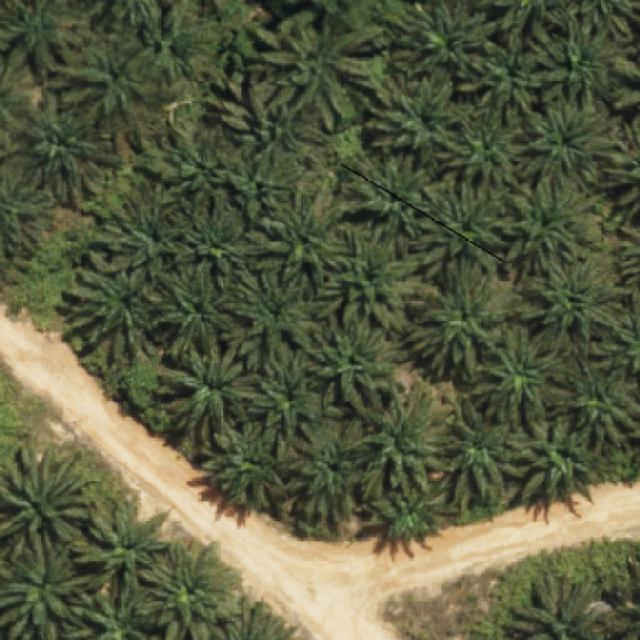Kelapa_Sawit: (250, 10, 388, 136), (310, 220, 442, 335), (398, 256, 513, 387), (15, 91, 126, 206), (154, 338, 268, 448), (516, 249, 636, 348), (406, 175, 508, 291), (46, 36, 171, 130), (338, 148, 440, 262), (68, 488, 172, 598), (57, 264, 172, 362), (162, 190, 269, 295), (511, 92, 618, 195), (95, 178, 198, 285), (364, 379, 462, 490), (238, 181, 345, 282), (527, 10, 627, 118), (492, 185, 603, 282), (131, 121, 246, 214), (543, 347, 640, 455), (228, 265, 327, 369), (363, 68, 468, 166), (307, 315, 398, 423), (468, 327, 564, 428), (196, 413, 290, 516), (439, 401, 533, 502), (433, 94, 530, 191), (248, 343, 329, 459), (288, 417, 364, 540), (454, 27, 544, 127), (211, 79, 329, 153), (150, 272, 242, 362), (511, 412, 595, 510), (361, 483, 454, 545), (222, 144, 295, 222)
